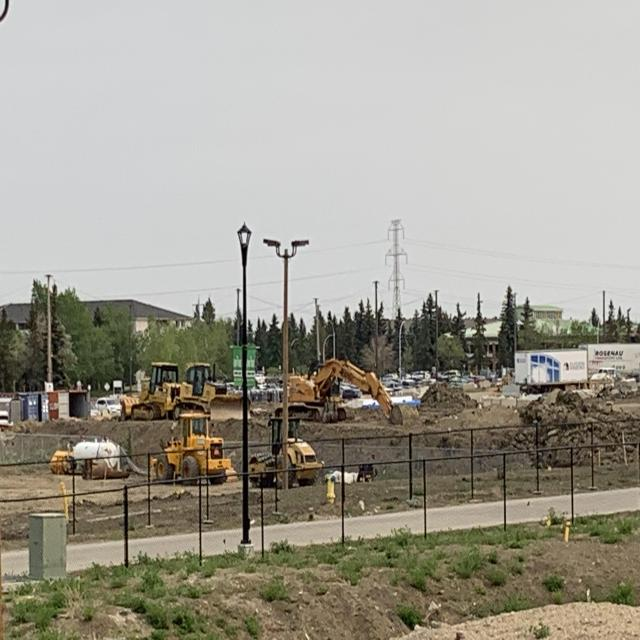buldozerpayloadergrader: (151, 412, 238, 487)
excavator: (283, 358, 405, 424)
